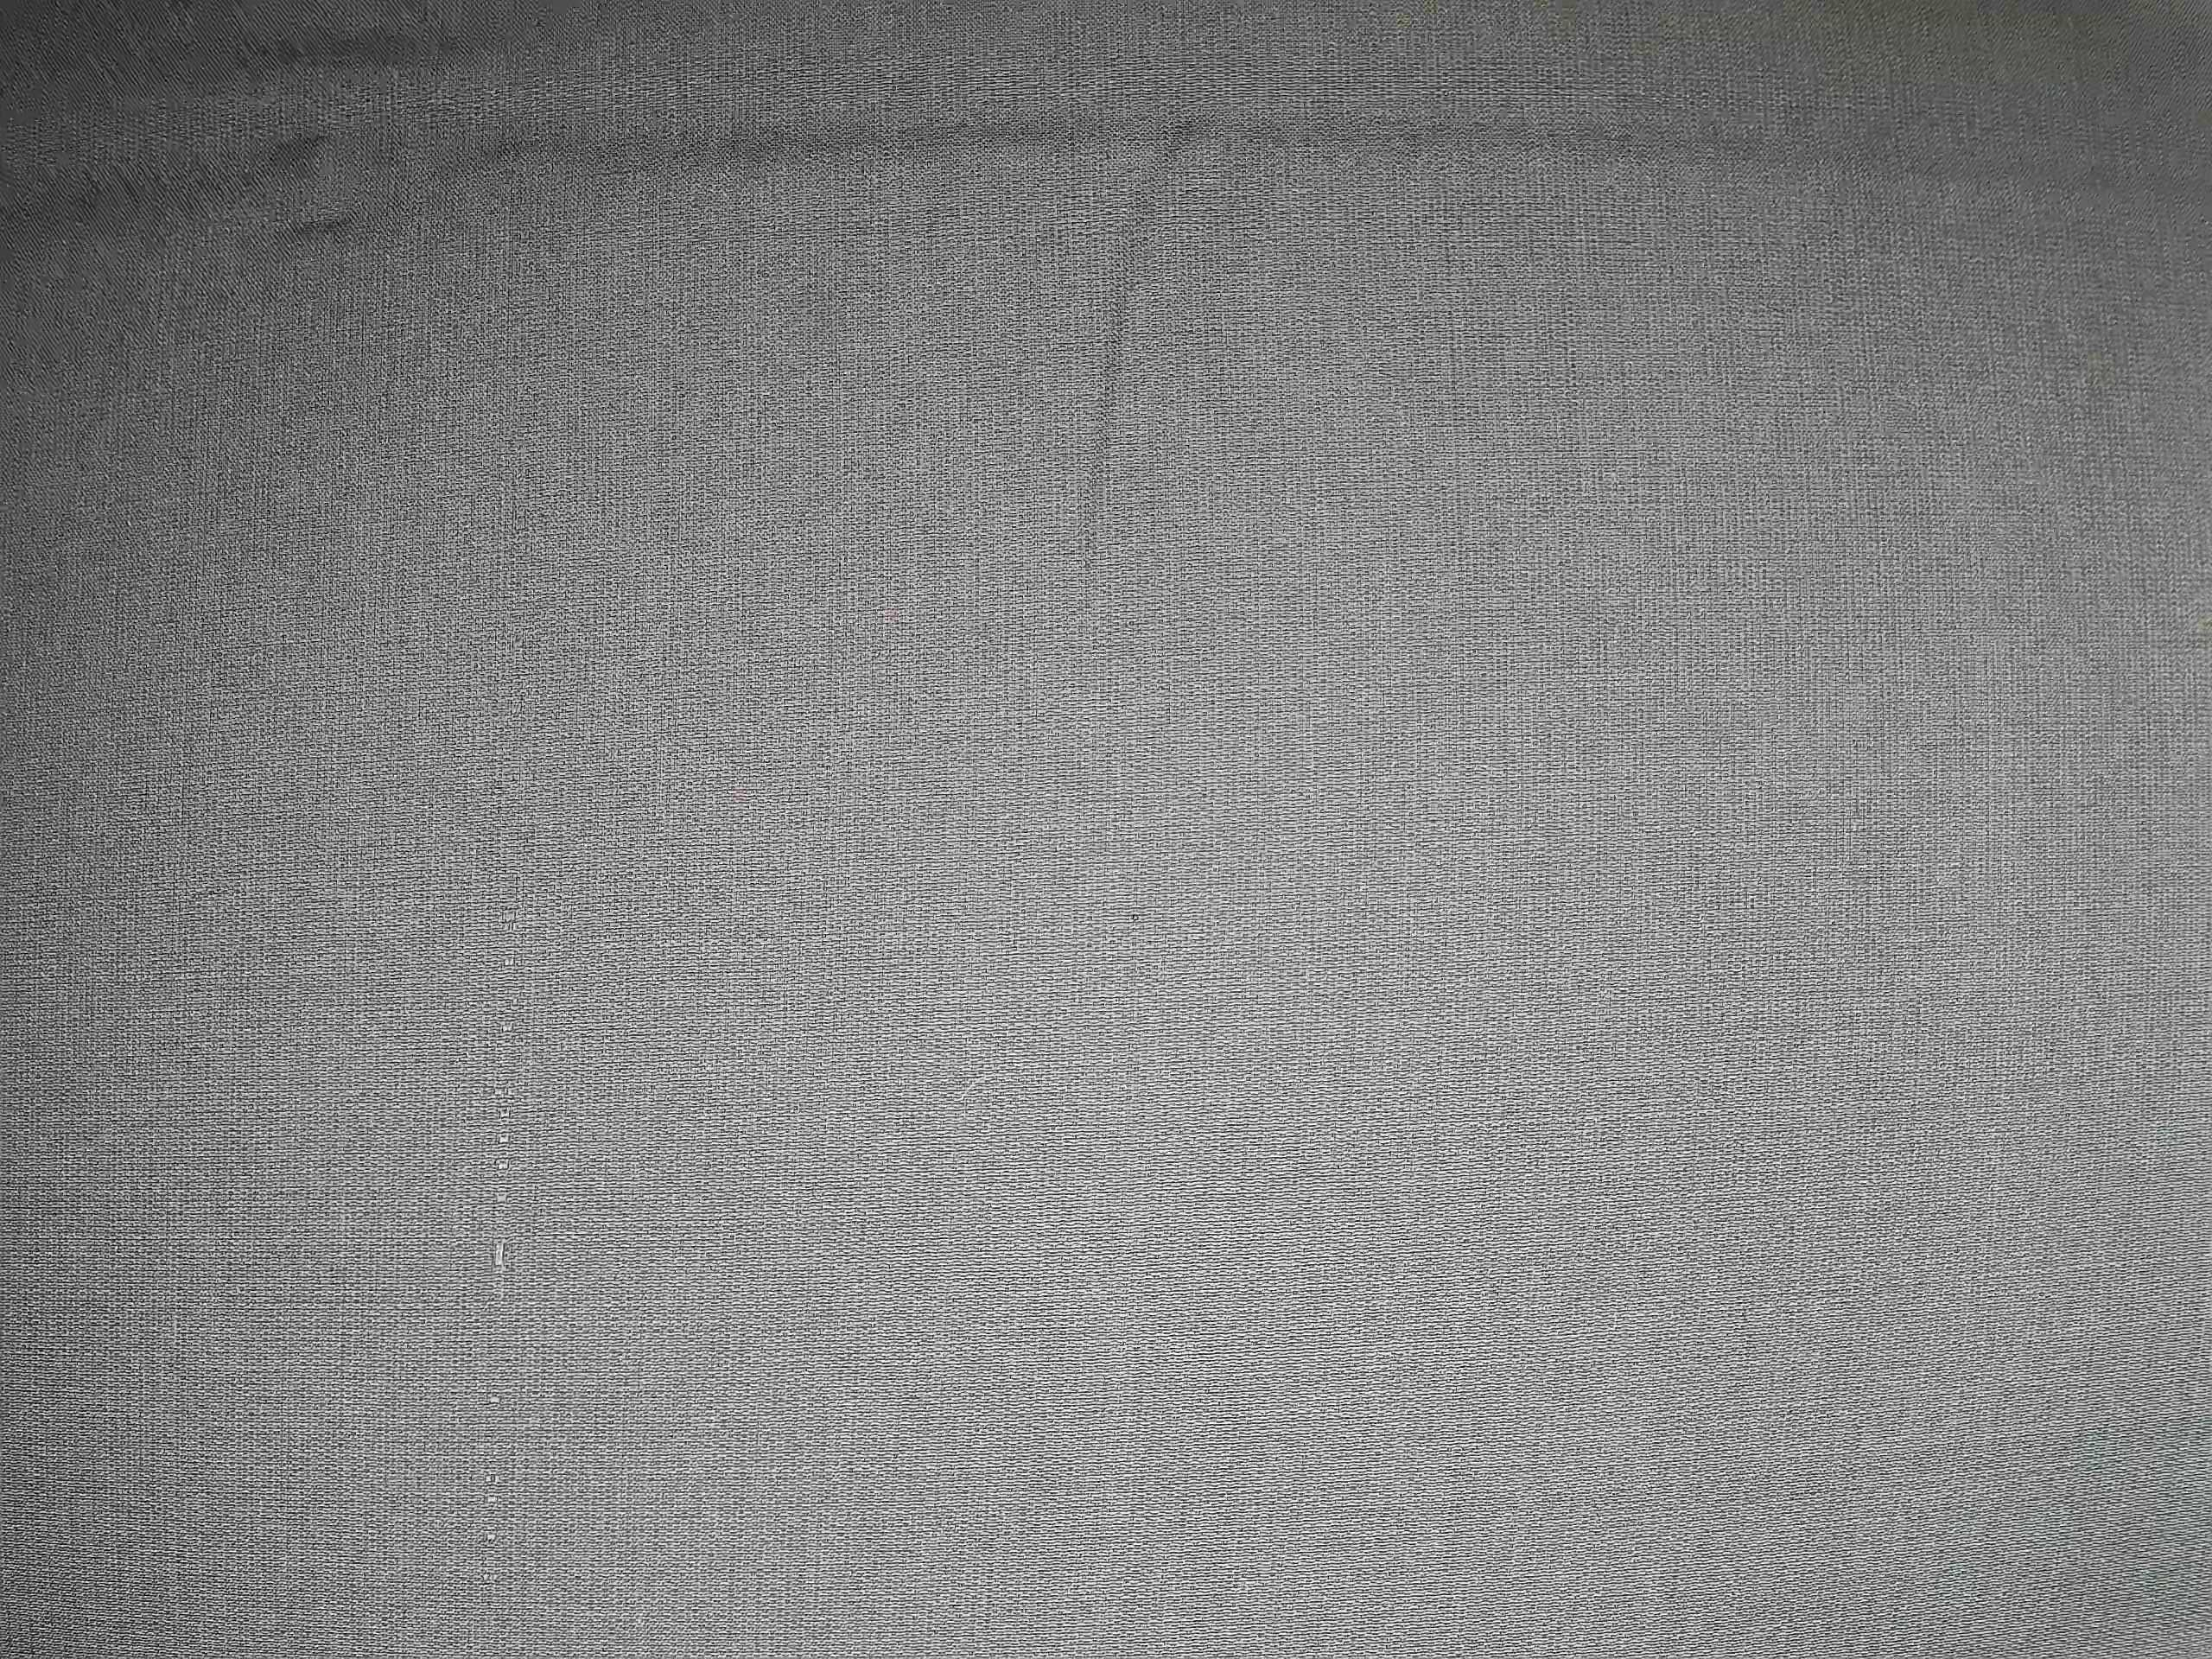jumps: (472, 911, 531, 1593)
